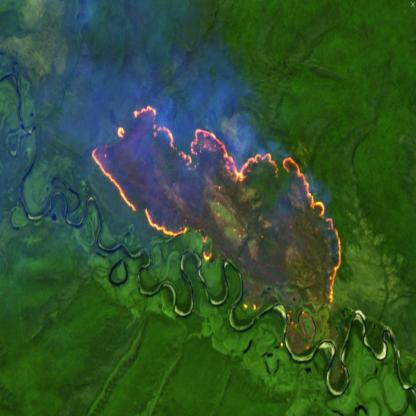fire: (89, 96, 346, 342)
